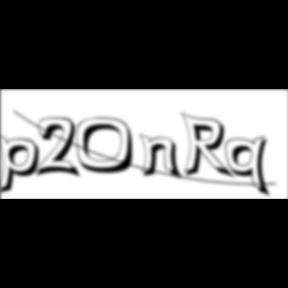2: (34, 117, 84, 181)
O: (76, 117, 142, 176)
R: (181, 112, 238, 182)
n: (140, 132, 186, 181)
p: (0, 132, 46, 198)
q: (226, 135, 274, 200)
